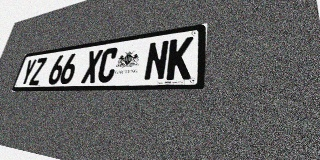6: (58, 53, 79, 84), (47, 54, 67, 85)
C: (96, 47, 119, 83)
K: (166, 36, 194, 80)
N: (143, 40, 170, 81)
X: (81, 49, 103, 83)
Y: (19, 59, 37, 86)
Z: (28, 57, 47, 85)
